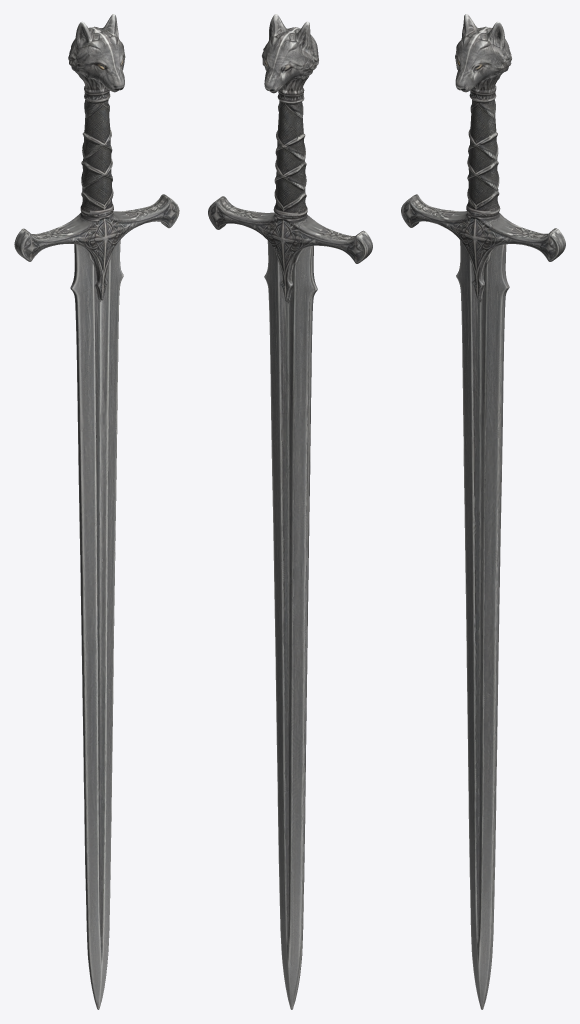
Rendered from sword.glb.
3 renders of one model, left to right at view 1: azimuth 30°, elevation 25°; view 2: azimuth 150°, elevation 25°; view 3: azimuth 330°, elevation 25°, orthographic.
Bounding box in the file's own units: 0.3191 × 1.9 × 0.1629.
1 material, 1 textured.
